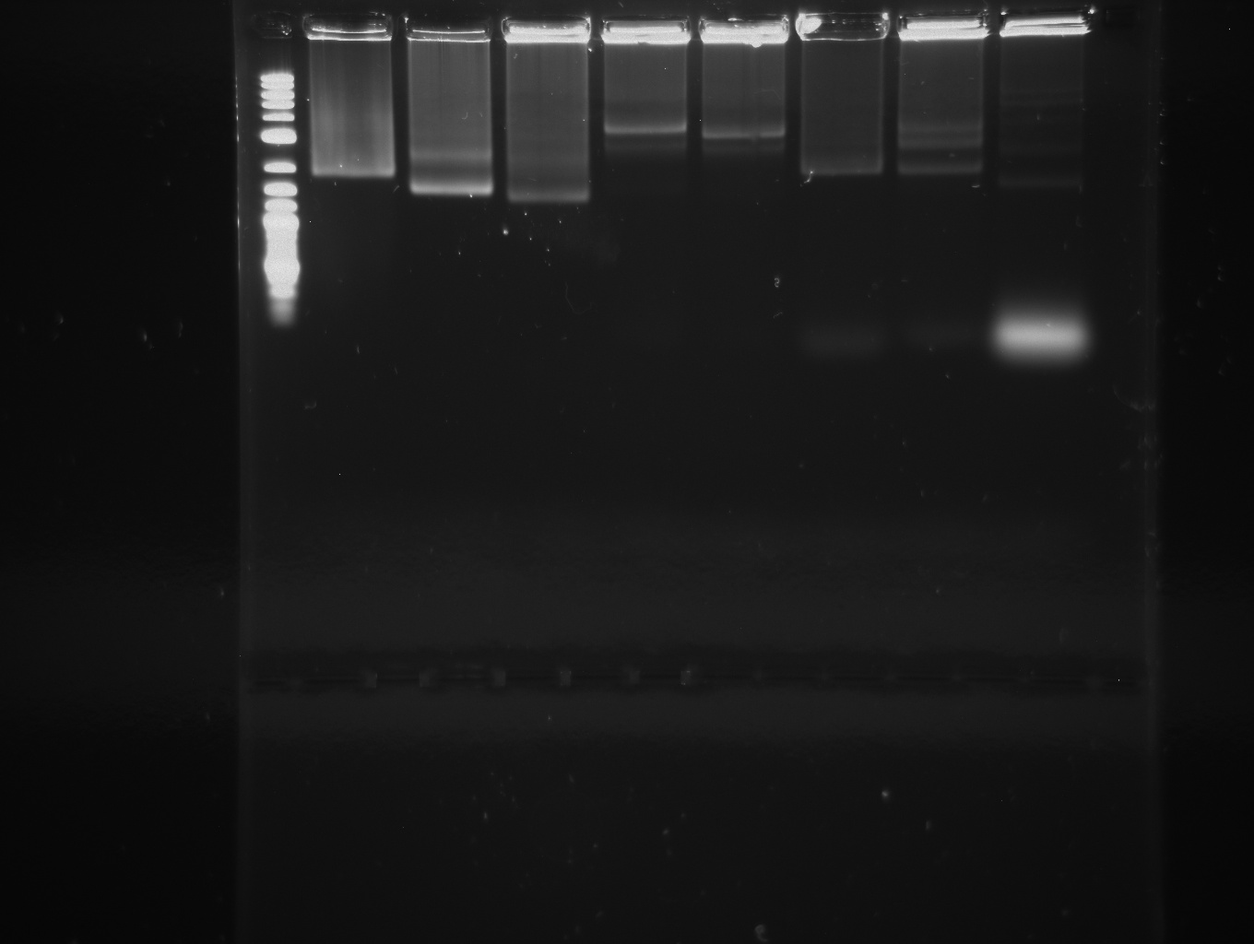Lane: (899, 7, 1002, 944), (795, 7, 890, 944), (403, 14, 496, 944), (1000, 14, 1090, 944), (606, 7, 695, 936), (505, 16, 594, 944), (701, 22, 792, 887), (309, 0, 390, 944)
ladder: (247, 25, 314, 944)
